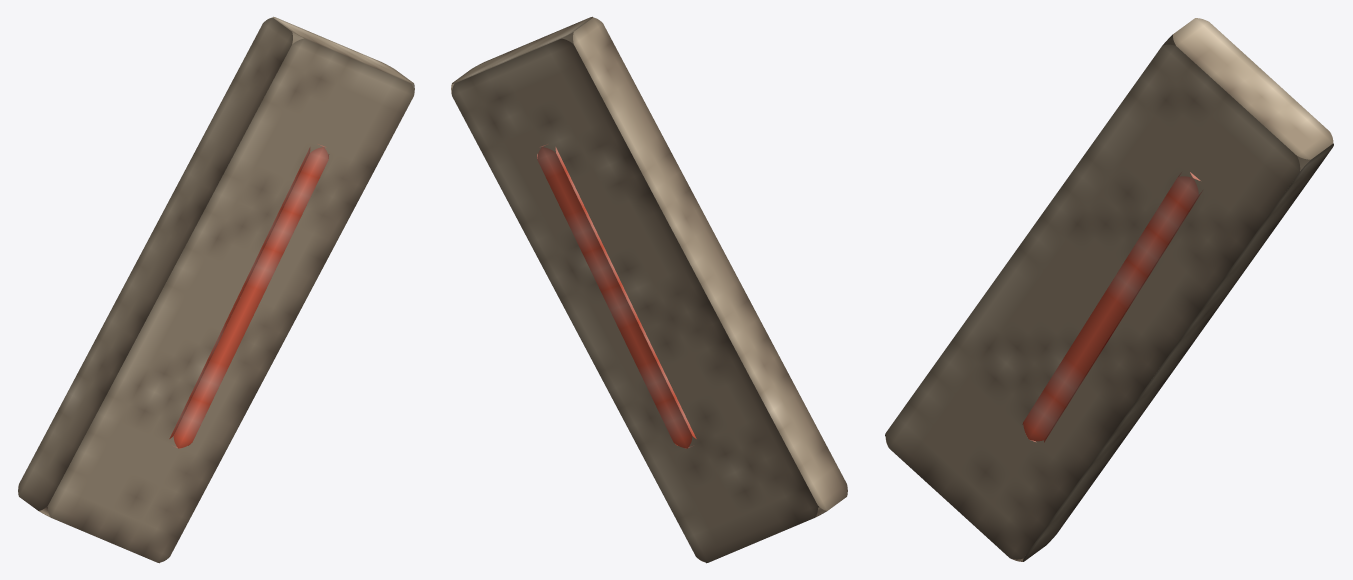
The model's file is valve_shard.obj.
3 renders of one model, left to right at view 1: azimuth 30°, elevation 25°; view 2: azimuth 150°, elevation 25°; view 3: azimuth 330°, elevation 25°, orthographic. The views are drawn at different scales.
Visible parts, largest first — view 1: lit, fire; view 2: lit, fire; view 3: lit, fire.
Part boxes in pixels (left/top/right/bottom): lit: left=18, top=16, right=414, bottom=563; fire: left=169, top=144, right=329, bottom=448; lit: left=451, top=16, right=847, bottom=563; fire: left=537, top=144, right=696, bottom=448; lit: left=885, top=18, right=1333, bottom=561; fire: left=1022, top=172, right=1202, bottom=442.
Bounding box in the file's own units: 0.6501 × 0.8243 × 0.1.
